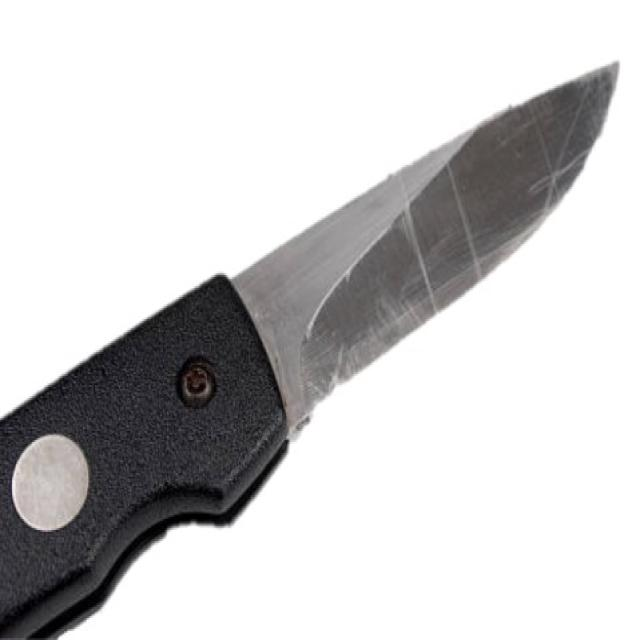knife: (1, 51, 625, 640)
